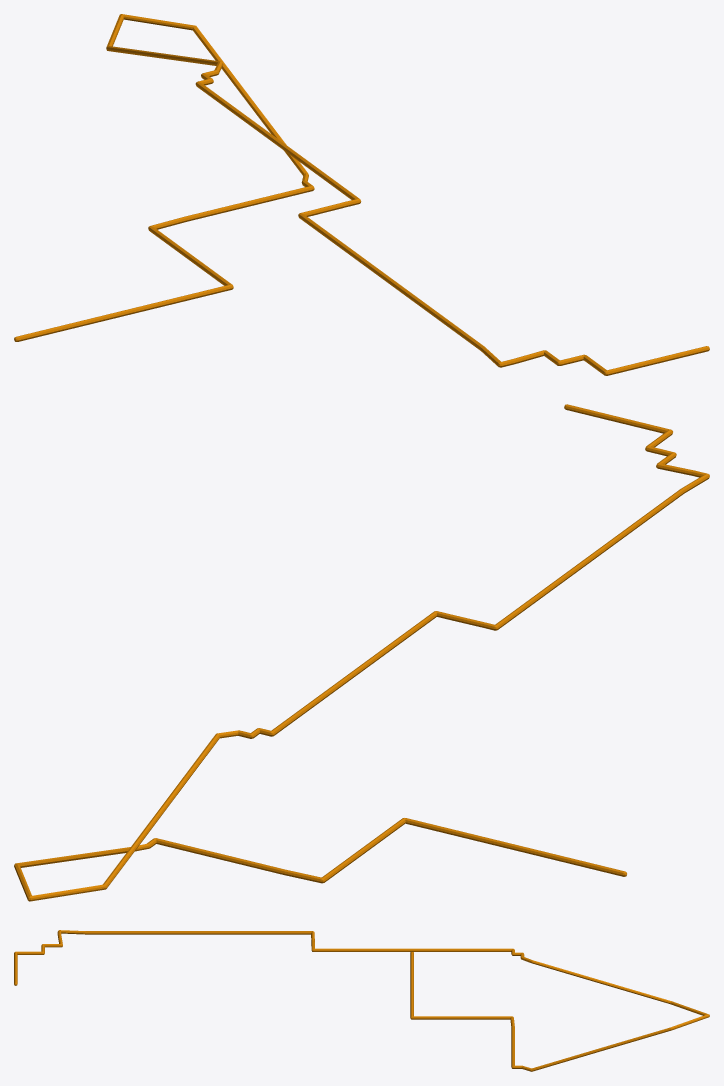
3 renders of one model, top to bottom at view 1: azimuth 30°, elevation 25°; view 2: azimuth 150°, elevation 25°; view 3: azimuth 270°, elevation 25°, orthographic. The views are drawn at different scales.
Size of the model in its own units: 1548 by 520 by 3829.
